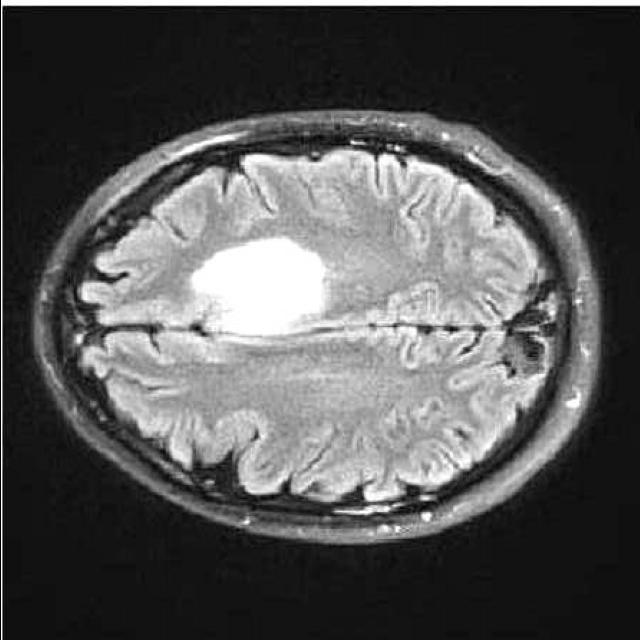tumor: (187, 236, 324, 338)
